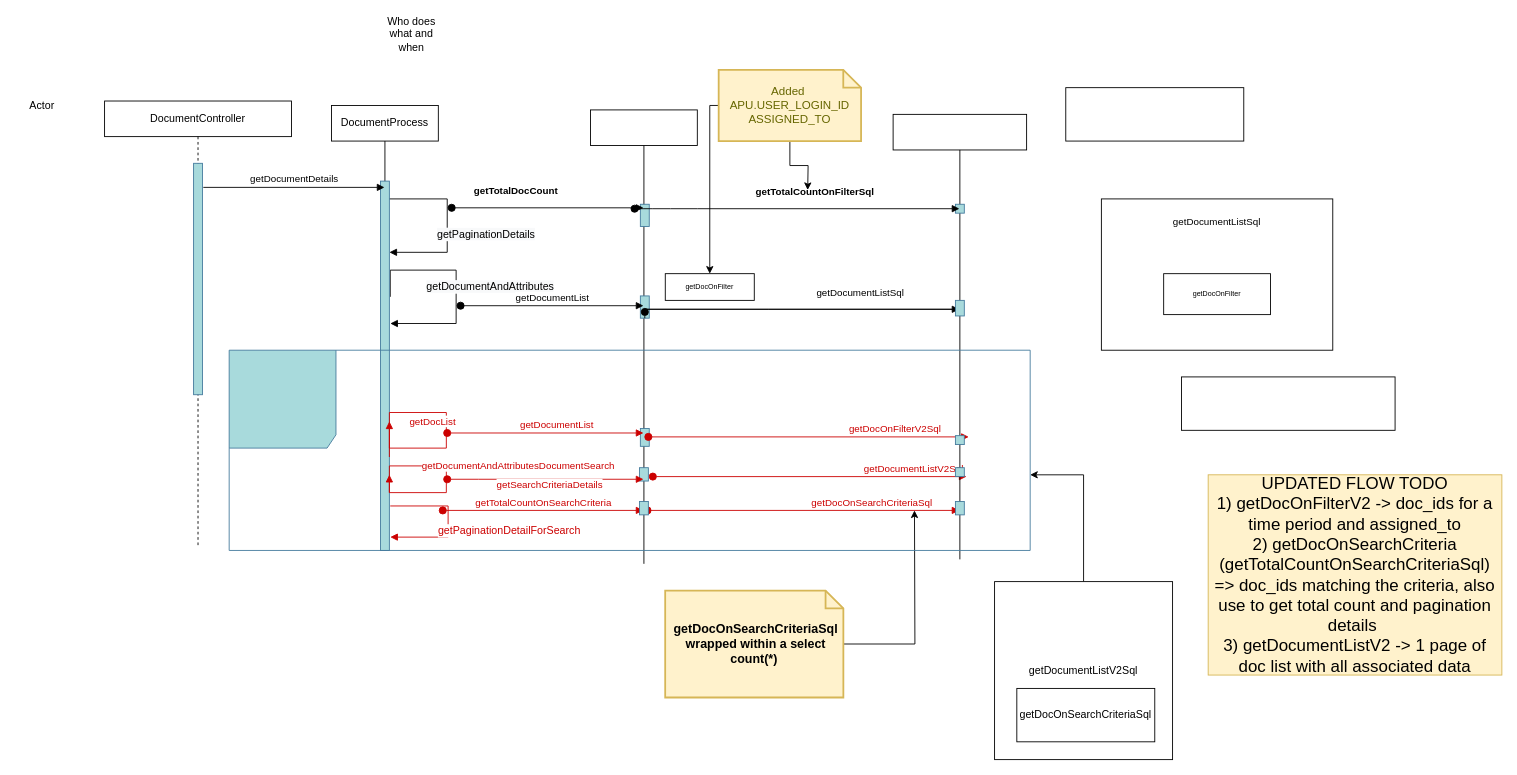
This 1517x775 diagram has some shape labels left out. Each missing label, with the box of its shape:
DB: (892, 113, 1027, 559)
DocDataAccess: (590, 109, 697, 564)
getDocOnFilterV2: (1181, 376, 1395, 430)
getTotalCountOnFilter and getDocOnFilter are nearly the same: (1065, 87, 1244, 141)
If getDocumentName(): (228, 349, 1030, 550)
